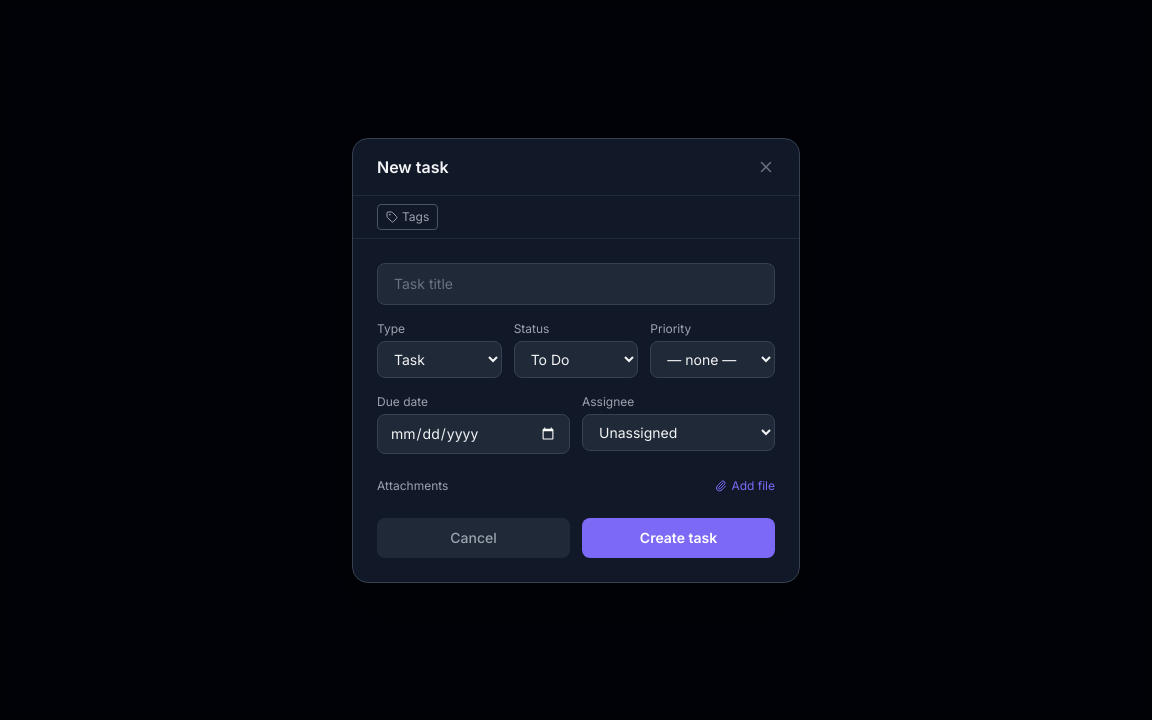
Test: HW-10 — no resolvable board (Backlog) › [HW-10] submitting with no board shows an error instead of hanging
The image size is (1152, 720).
Step 1. Type "Orphan task" into the field with placeholder "Task title" → (576, 284), box [377,262,775,304]
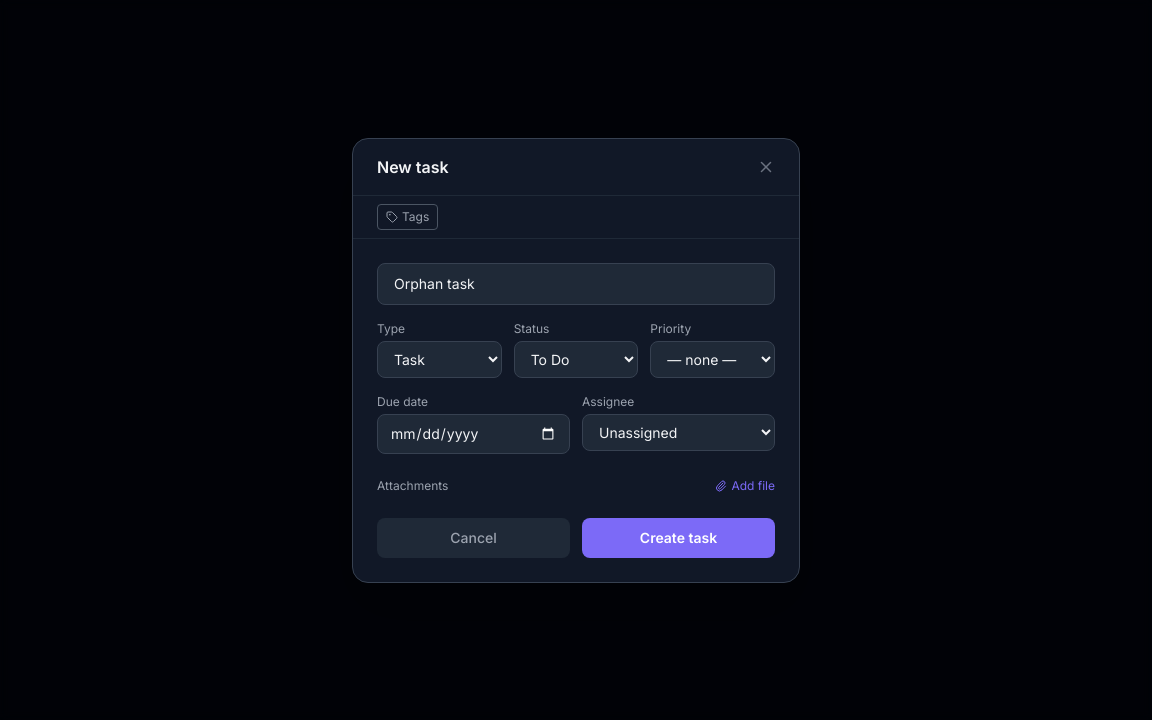
Step 2. Submit the form with placeholder "Task title", box [353,238,799,582]
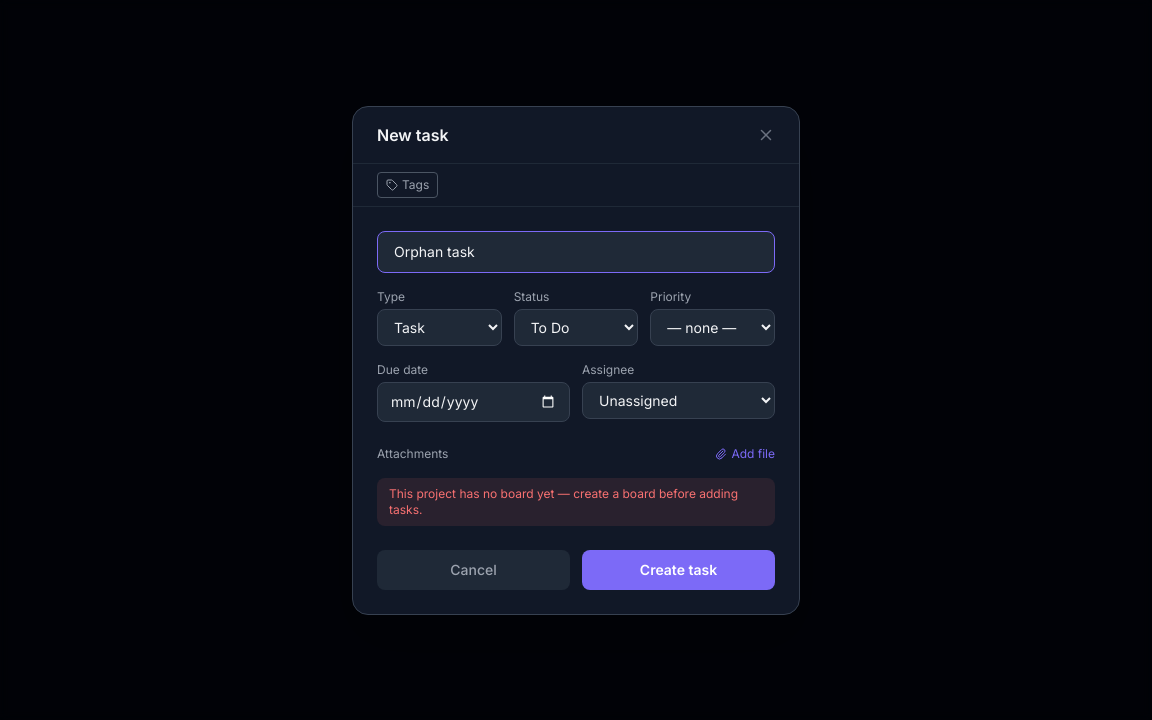
Expected: the text "no board yet" is shown, [389,486,738,516]
